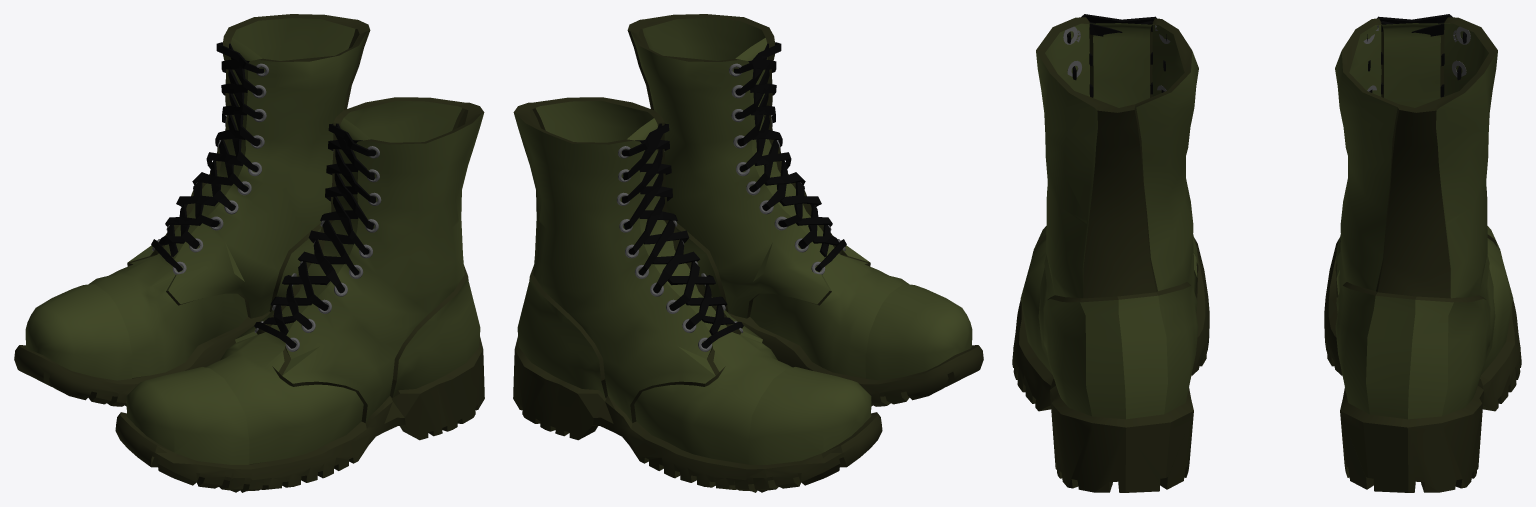
File: Chaussures1.fbx
3 renders of one model, left to right at view 1: azimuth 30°, elevation 25°; view 2: azimuth 150°, elevation 25°; view 3: azimuth 270°, elevation 25°, orthographic. The views are drawn at different scales.
Visible parts, largest first — view 1: Gauche, Droite; view 2: Droite, Gauche; view 3: Droite, Gauche.
Boxes of the visible parts, x1=… form: Gauche: x1=115, y1=97, x2=484, y2=492; Droite: x1=14, y1=14, x2=370, y2=406; Droite: x1=513, y1=97, x2=882, y2=492; Gauche: x1=627, y1=14, x2=983, y2=406; Droite: x1=1324, y1=14, x2=1521, y2=492; Gauche: x1=1012, y1=14, x2=1209, y2=492.
Bounding box in the file's own units: 3.28 × 2.72 × 3.05.
